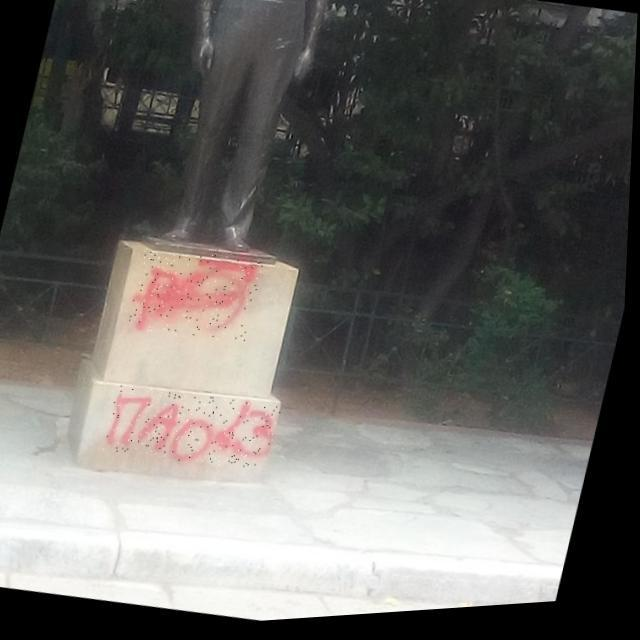-: (106, 378, 286, 484), (128, 242, 267, 354)
